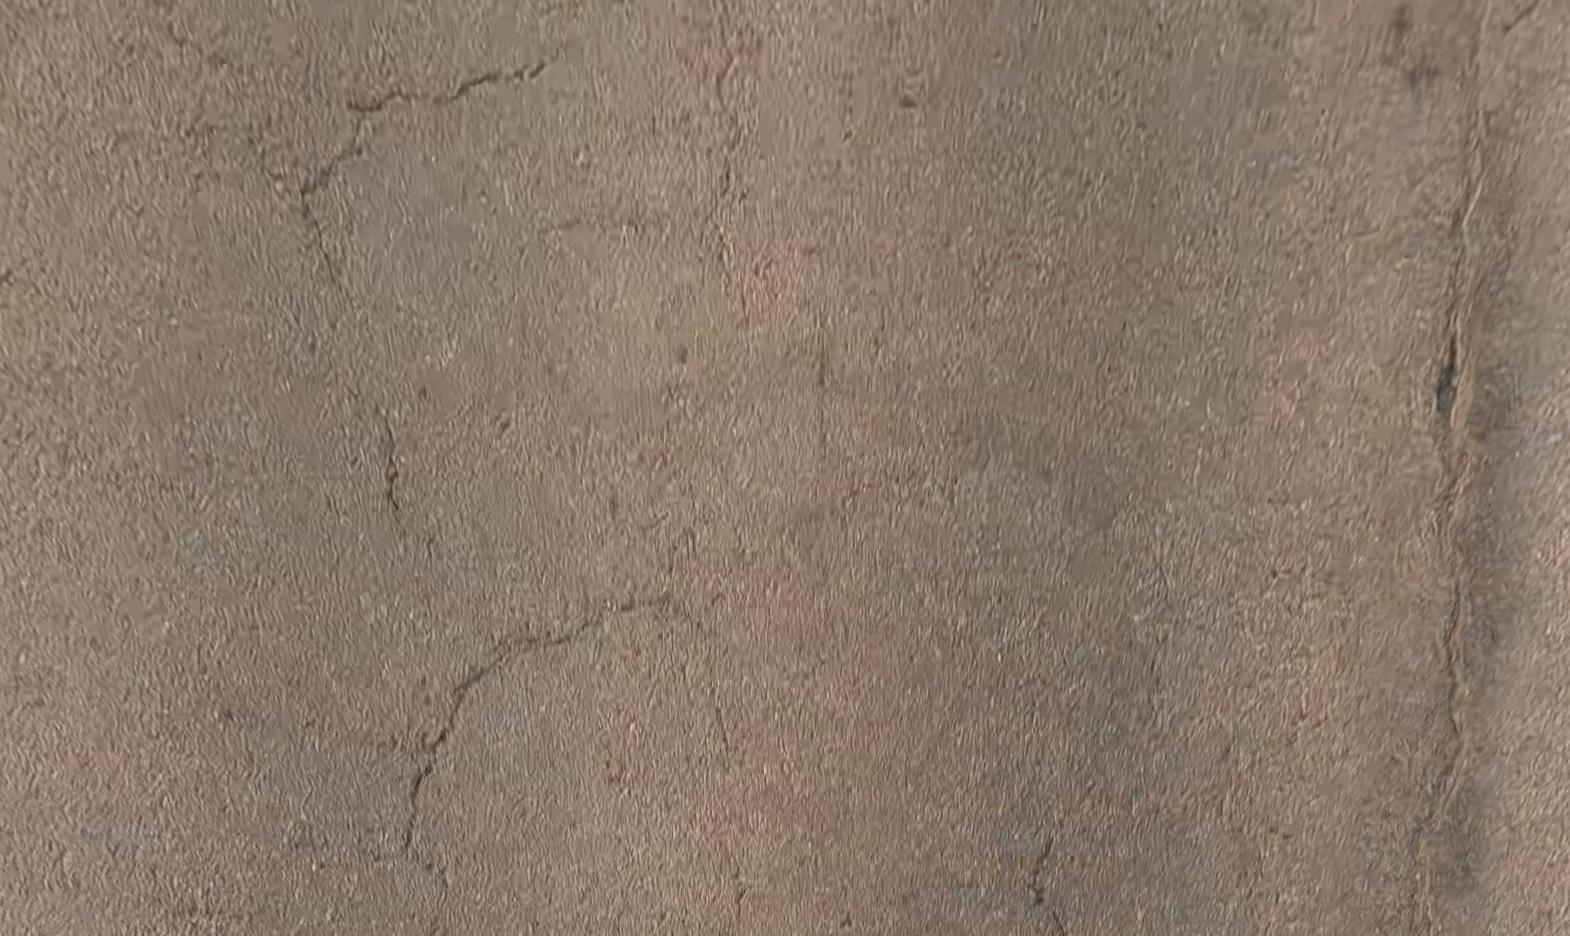pothole: (1432, 333, 1481, 454)
